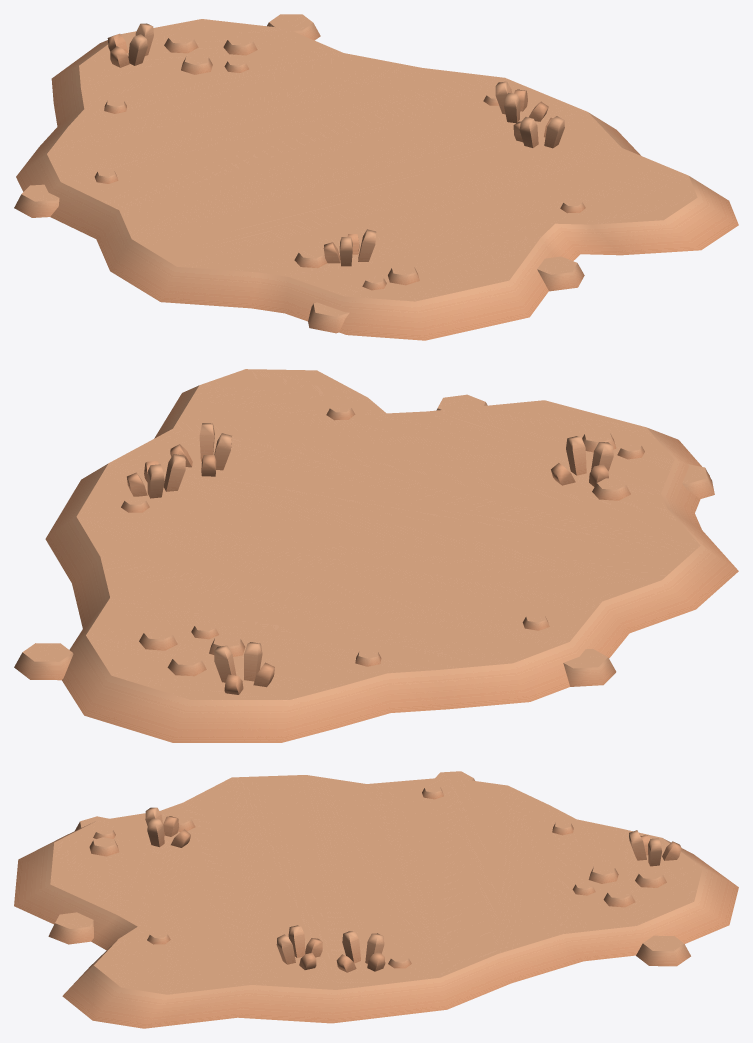
Rendered from patch-sand-foliage.001_lev2.glb.
The picture shows the model from 3 angles, top to bottom: view 1: azimuth 30°, elevation 25°; view 2: azimuth 150°, elevation 25°; view 3: azimuth 270°, elevation 25°; orthographic projection. The views are drawn at different scales.
Visible parts, largest first — view 1: patch-sand-foliage.001_lev2; view 2: patch-sand-foliage.001_lev2; view 3: patch-sand-foliage.001_lev2.
Part boxes in pixels (x1,y1,x2,y2): patch-sand-foliage.001_lev2: (14, 14, 738, 340); patch-sand-foliage.001_lev2: (14, 369, 738, 742); patch-sand-foliage.001_lev2: (14, 771, 738, 1028).
Size of the model in its own units: 13.46 by 1.22 by 16.65.
Materials: 1 (1 with a texture image).
